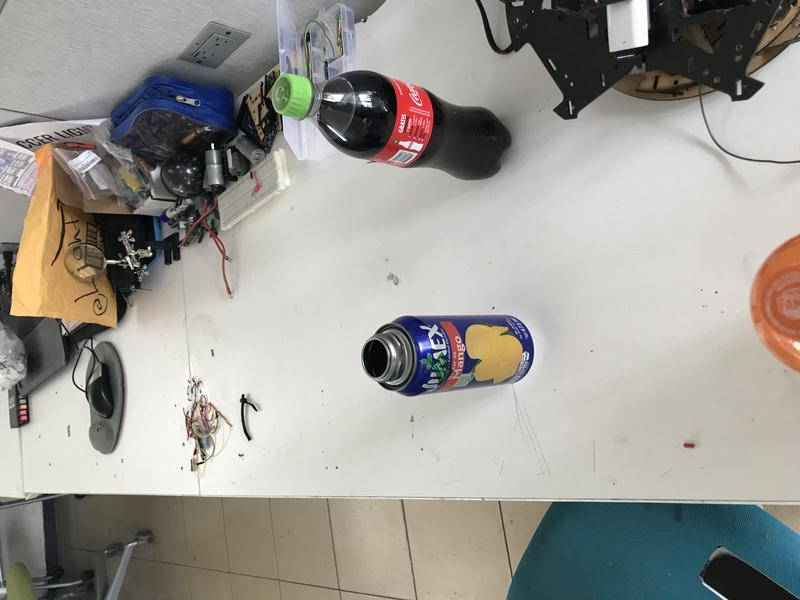coca_cola: (272, 70, 514, 181)
jumex_botella: (362, 315, 534, 396)
